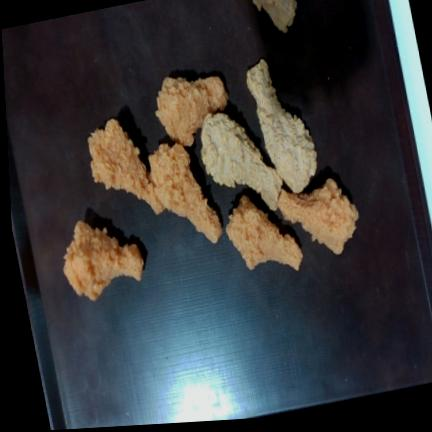chicken: (246, 59, 316, 192), (200, 113, 282, 210), (88, 118, 164, 214), (148, 143, 221, 242), (277, 178, 358, 254), (225, 195, 302, 270), (156, 75, 227, 146), (247, 0, 296, 32)
